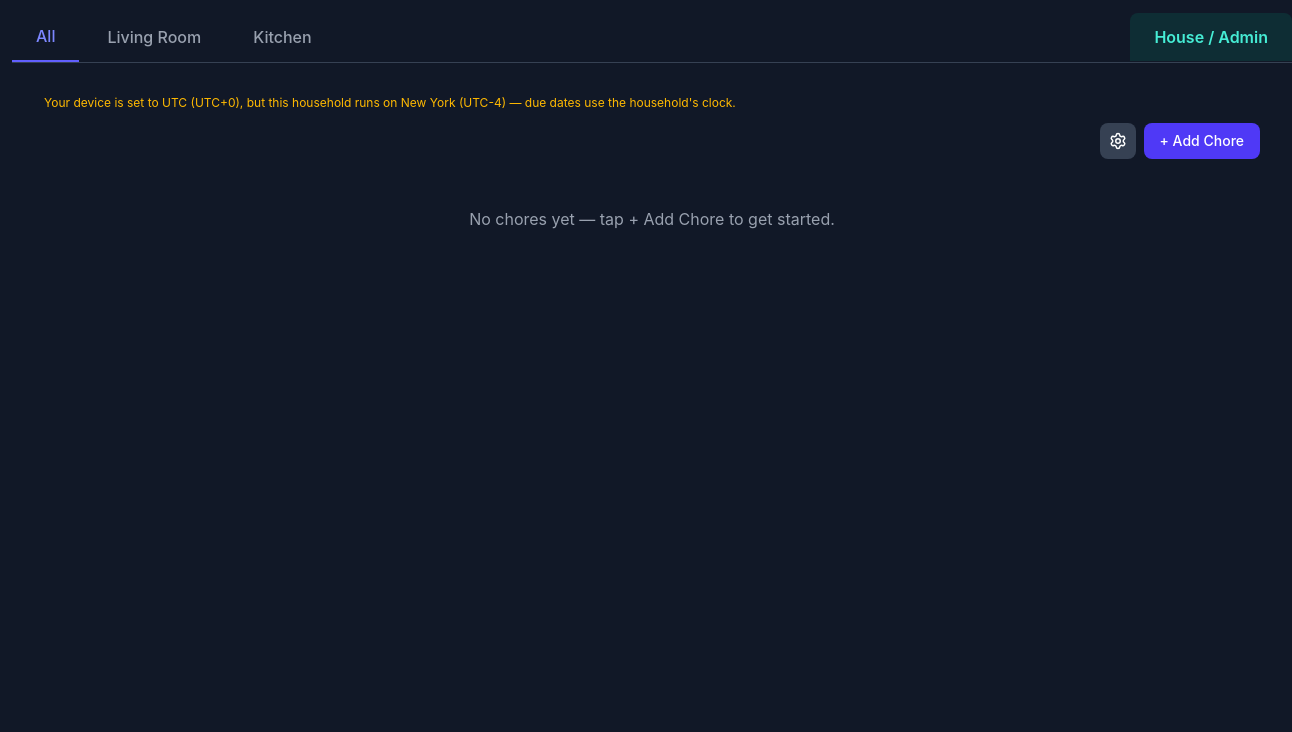
App › admin users directory › renders the Users directory at the bottom of the Admin page for an admin
Click the link with test id "admin-nav-link" at (1211, 37), box [1130,13,1291,61]
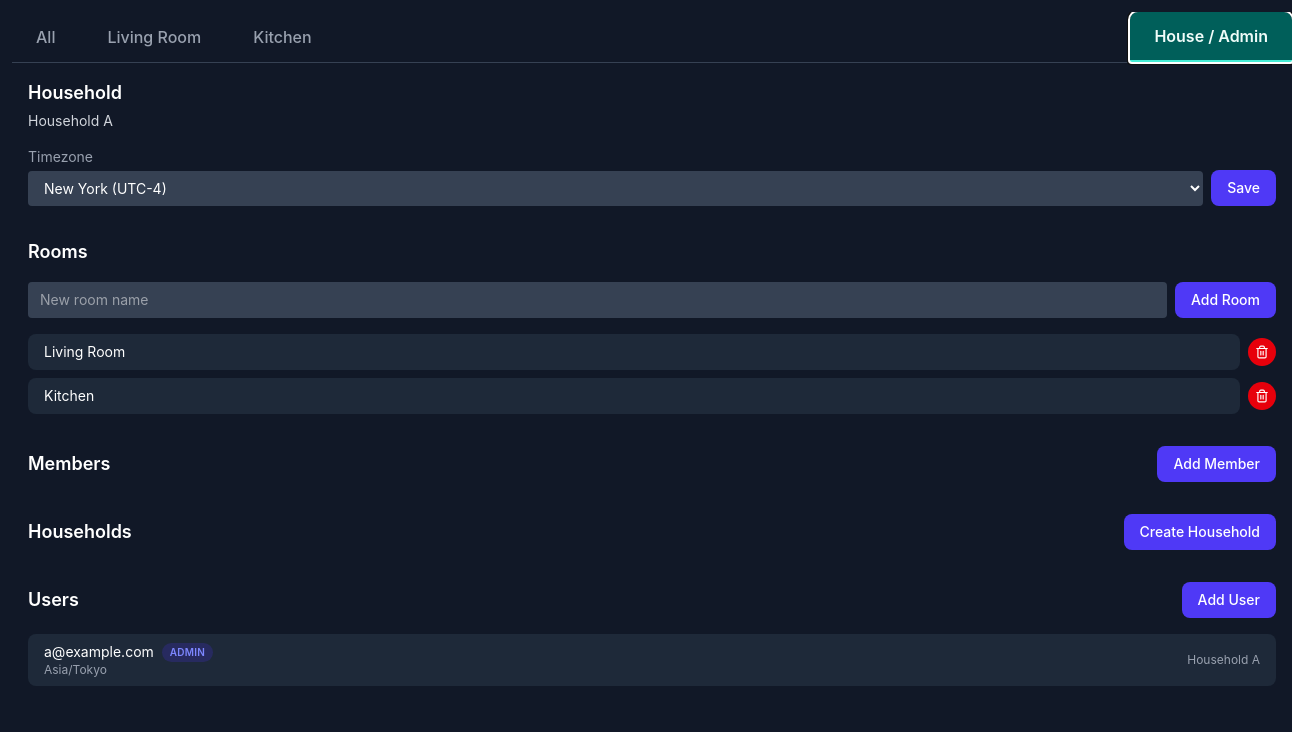
expect the heading "Users" is shown: met, box [28,586,79,614]
expect the text "a@example.com" is shown: met, box [44,642,154,662]
